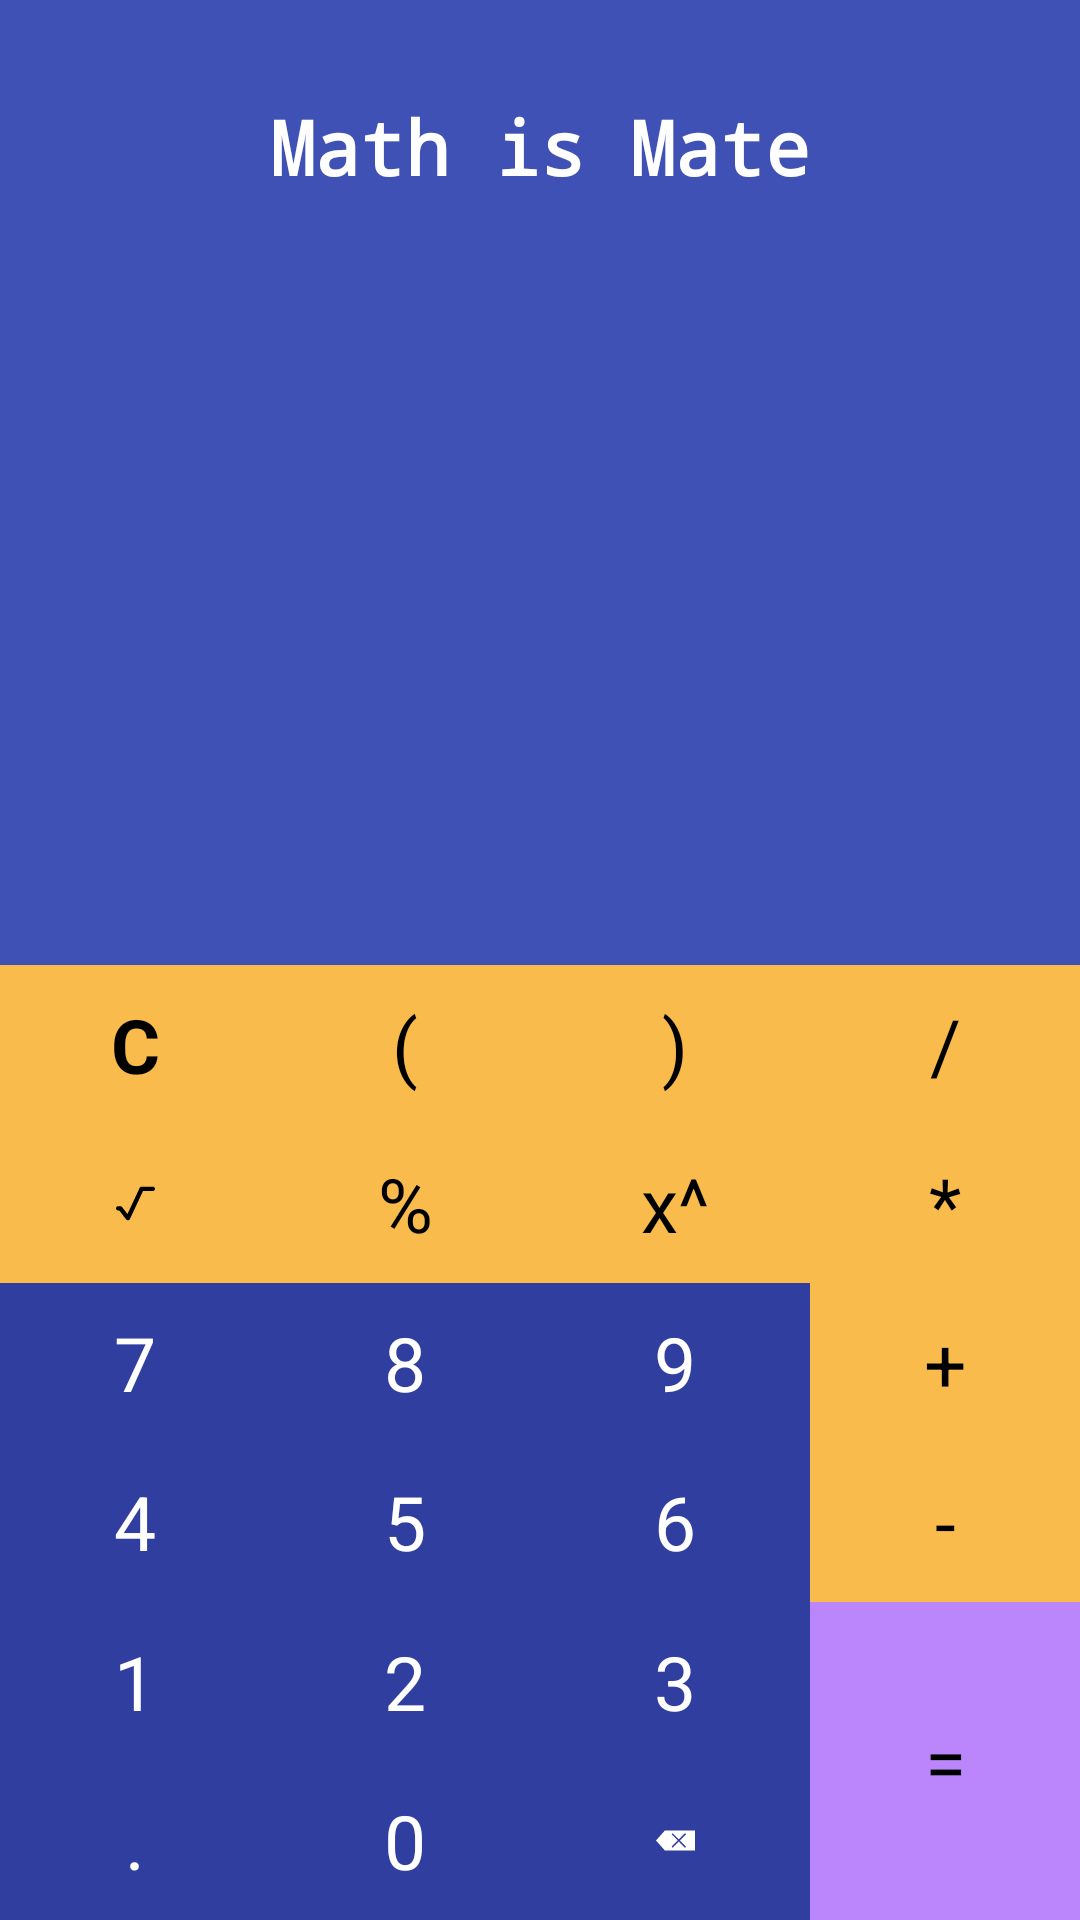

Named icons in this screenshot (1080px×1920px) and their centers, [x,y]:
Backspace: [675,1840]
Square Root: [135,1203]
